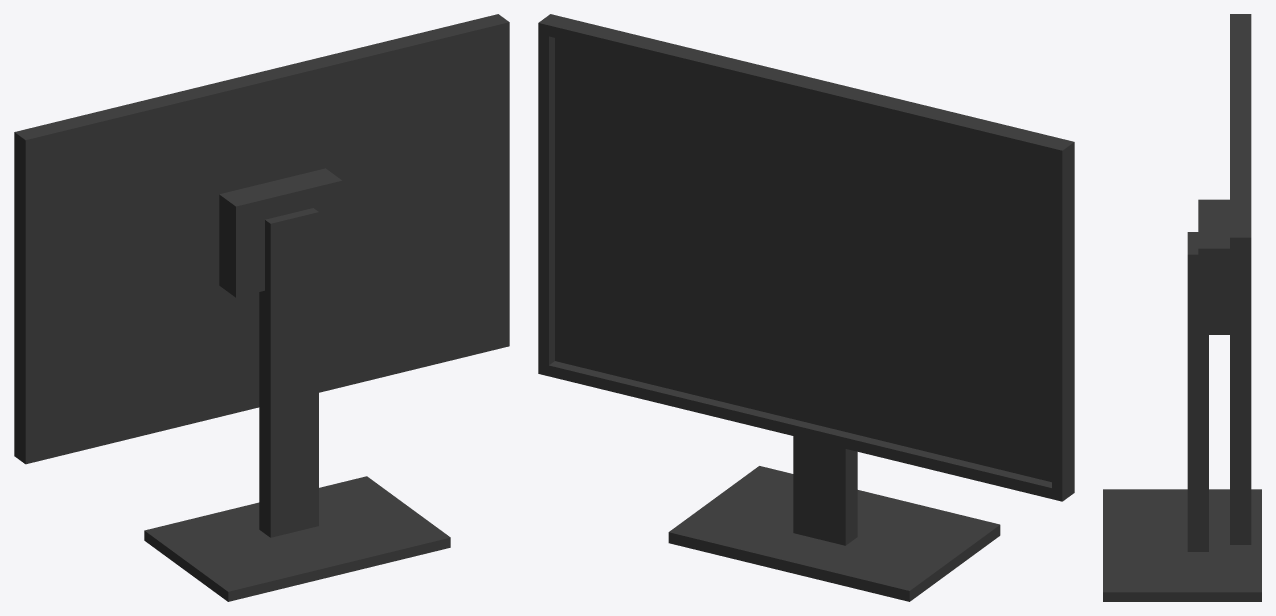
Rendered from Monitor_01_snaps001.fbx.
3 renders of one model, left to right at view 1: azimuth 30°, elevation 25°; view 2: azimuth 150°, elevation 25°; view 3: azimuth 270°, elevation 25°, orthographic. The views are drawn at different scales.
Parts seen in each view (by area): view 1: Monitor_01_snaps001; view 2: Monitor_01_snaps001; view 3: Monitor_01_snaps001.
Boxes of the visible parts, x1,y1,x2,y2 form: Monitor_01_snaps001: [14, 14, 509, 601]; Monitor_01_snaps001: [538, 14, 1074, 601]; Monitor_01_snaps001: [1103, 14, 1261, 601].
Size of the model in its own units: 0.7812 by 0.6875 by 0.2344.
Materials: 1 (1 with a texture image).
